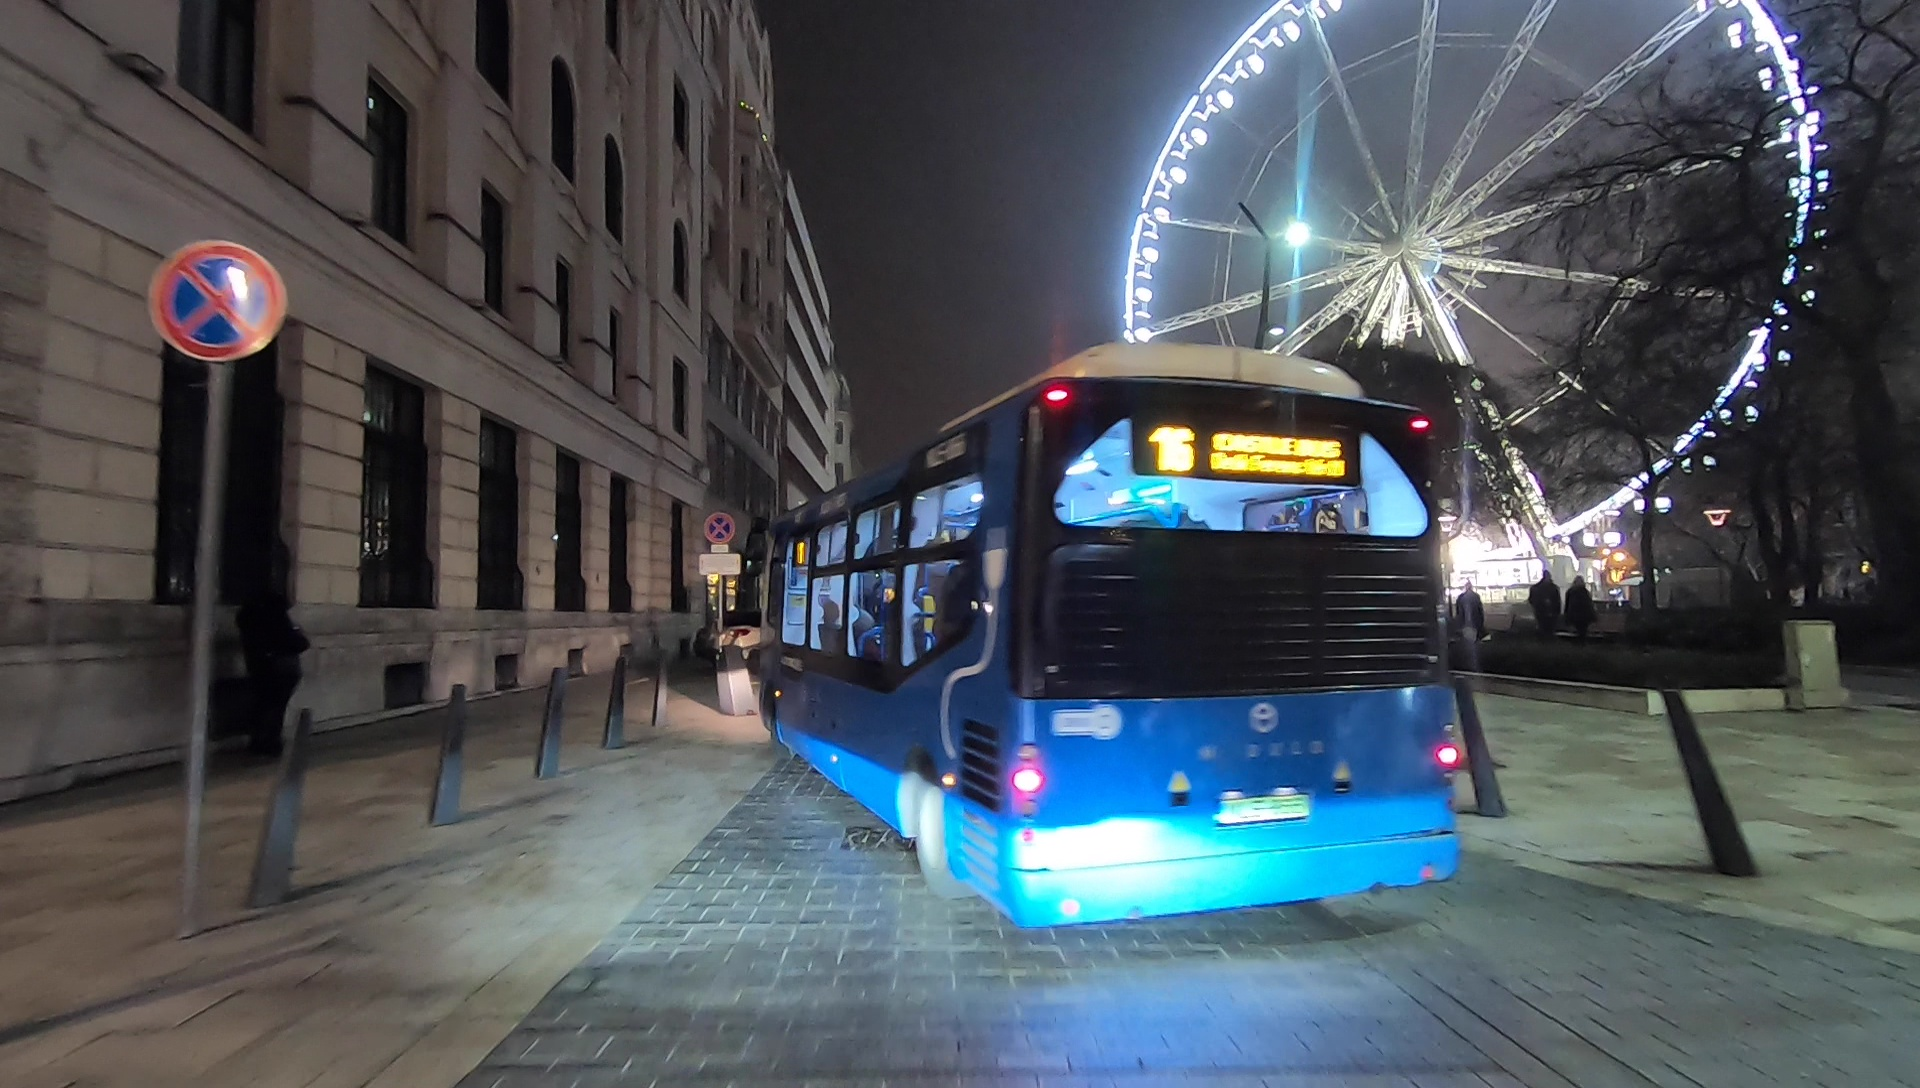person: (236, 574, 310, 747)
